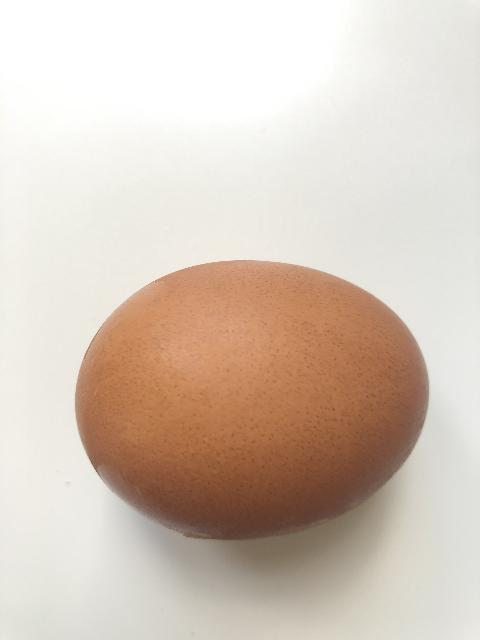Sano: (74, 258, 430, 541)
